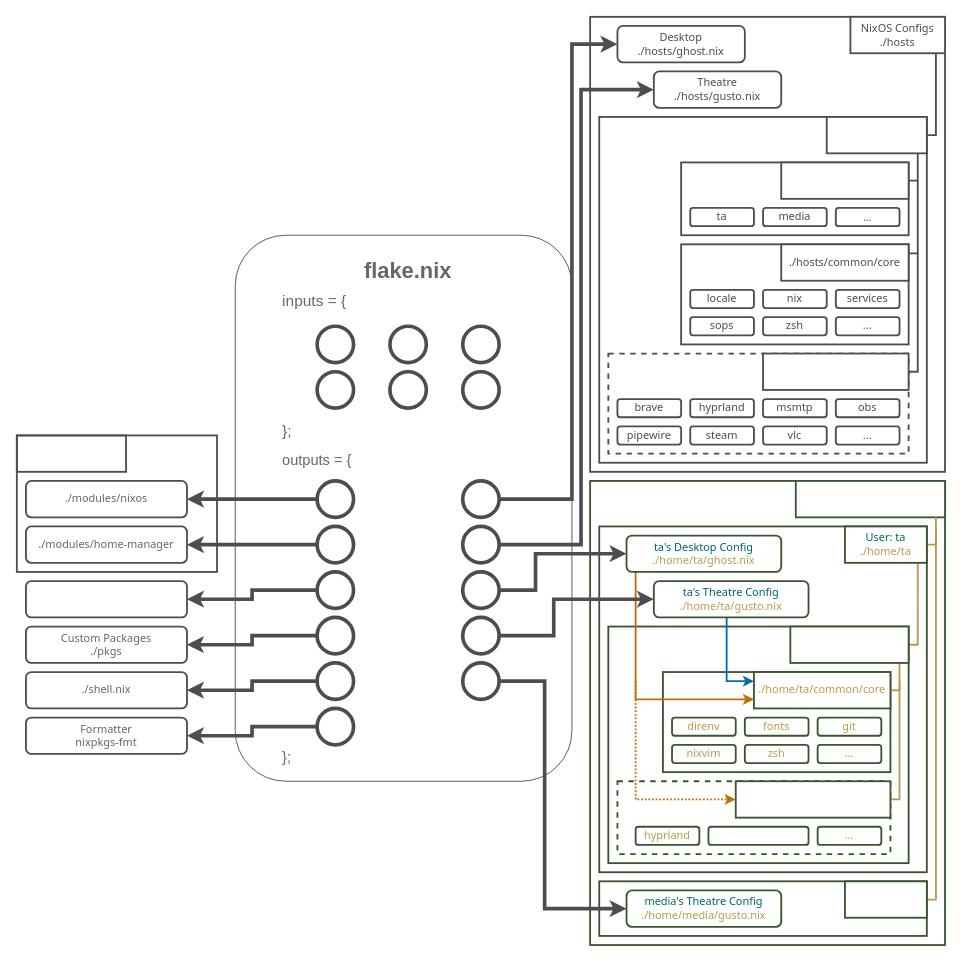
The diagram is 961 pixels wide and 961 high, and some of its shapes have lost their labels. The shapes that lost their labels are listed below. From the top down, each one's centre as x and y in pixels, then its label:
[876,135]: ./hosts/common
[844,180]: ./hosts/common/users
[835,371]: ./hosts/common/optional
[70,453]: Custom Modules ./modules
[869,499]: Home-Manager Configs ./home
[106,599]: ./overlays
[849,644]: ./home/ta/common
[812,799]: ./home/ta/common/optional
[758,835]: signal-desktop
[885,899]: User: media ./home/media
